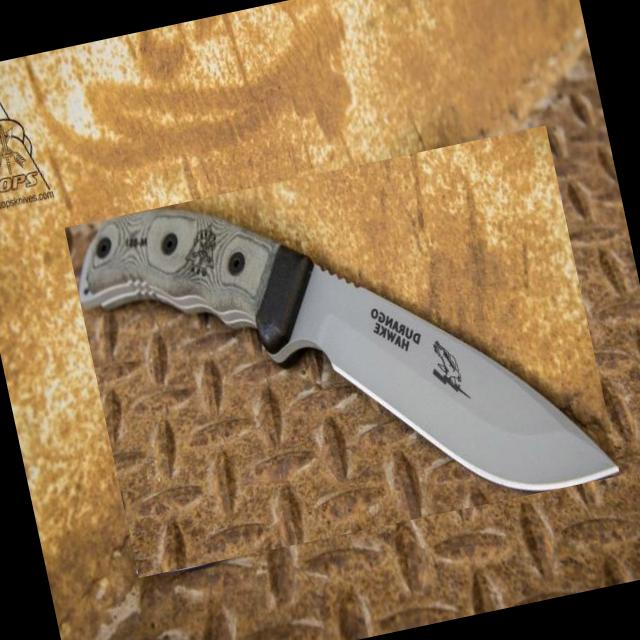Knife: (78, 210, 618, 491)
